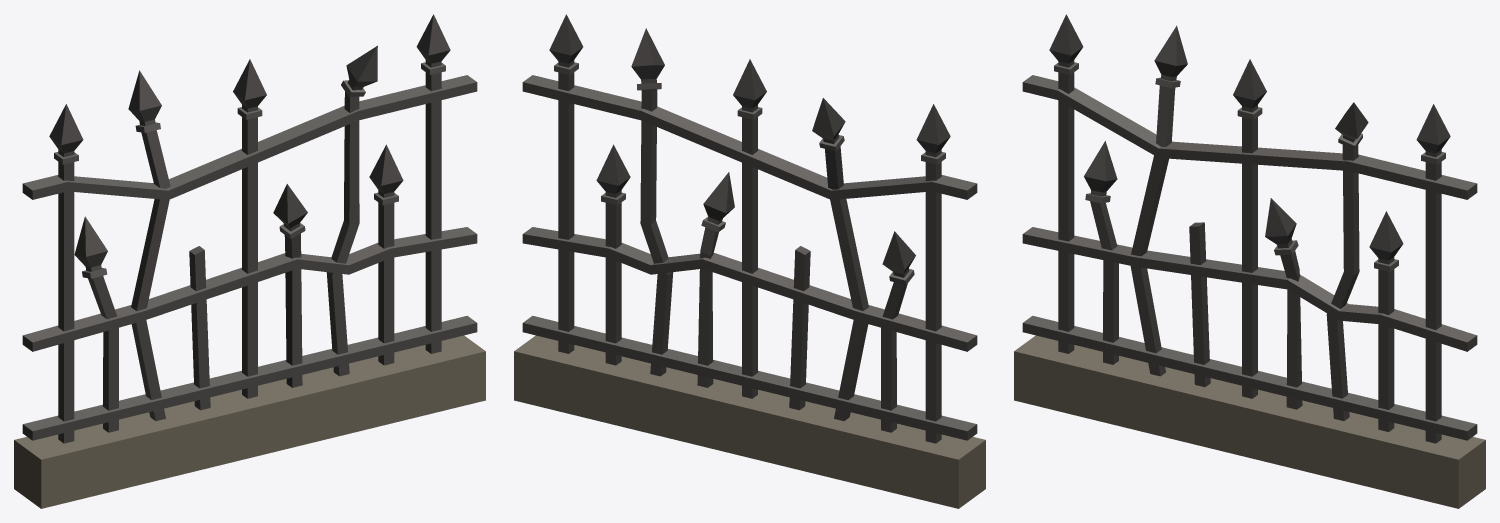
File: Graveyard_Fence_03.gltf
The picture shows the model from 3 angles, left to right: view 1: azimuth 30°, elevation 25°; view 2: azimuth 150°, elevation 25°; view 3: azimuth 330°, elevation 25°; orthographic projection.
Visible parts, largest first — view 1: SF_Prop_Graveyard_Fence_03; view 2: SF_Prop_Graveyard_Fence_03; view 3: SF_Prop_Graveyard_Fence_03.
Boxes of the visible parts, left/top/right/bottom form: SF_Prop_Graveyard_Fence_03: left=14, top=14, right=485, bottom=508; SF_Prop_Graveyard_Fence_03: left=514, top=14, right=985, bottom=508; SF_Prop_Graveyard_Fence_03: left=1014, top=14, right=1485, bottom=508.
Size of the model in its own units: 0.05 by 0.0415 by 0.00629.
Materials: 1 (1 with a texture image).
